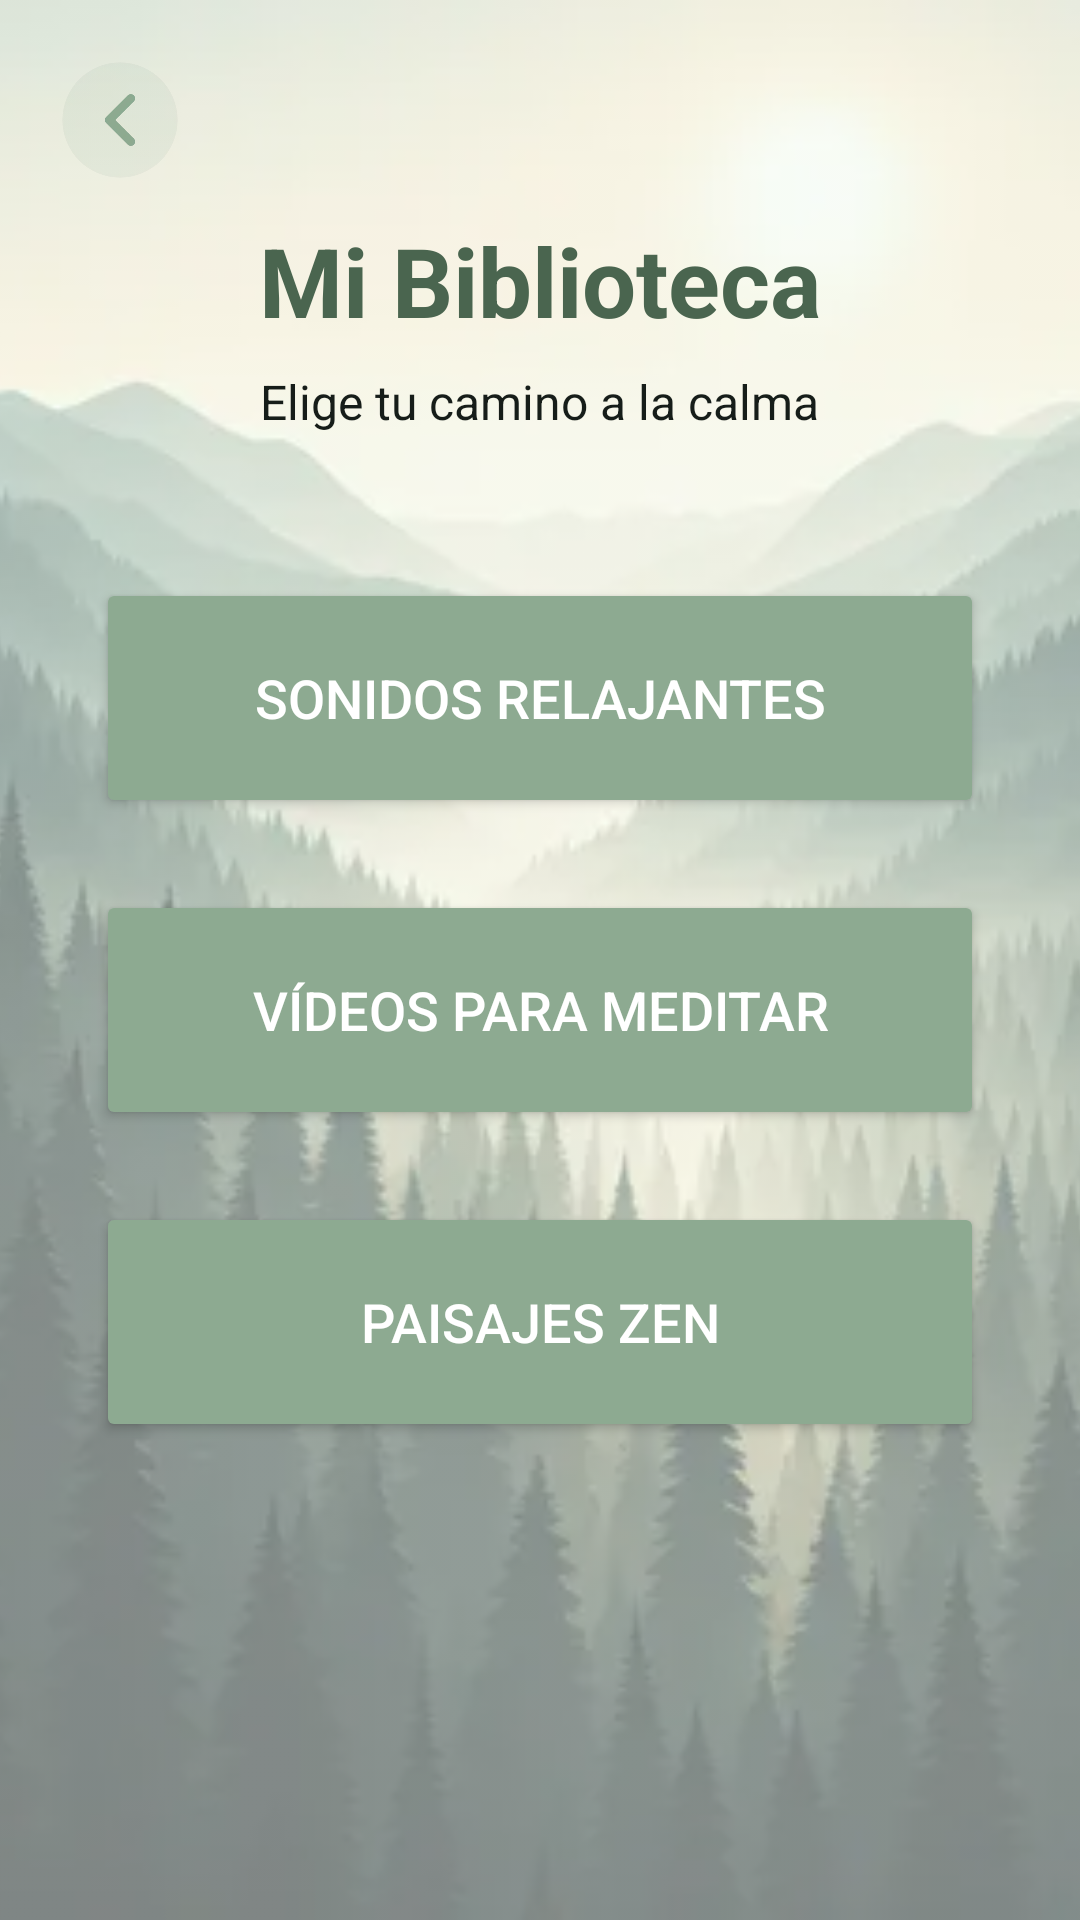

Icons on this 1080w x 1920h Android screen, each with its box as (left=x1, top=y1, right=x2, bottom=y2):
Volver: (left=105, top=94, right=135, bottom=146)
